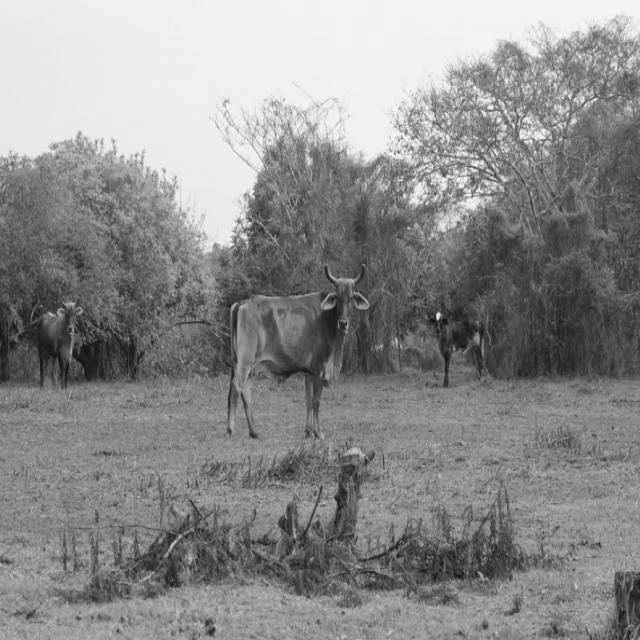cow: (228, 266, 369, 438)
